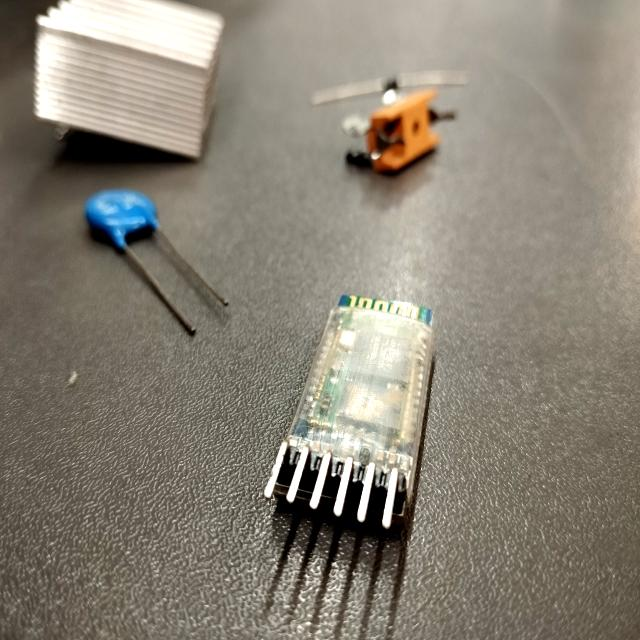capacitor: (84, 189, 158, 249)
